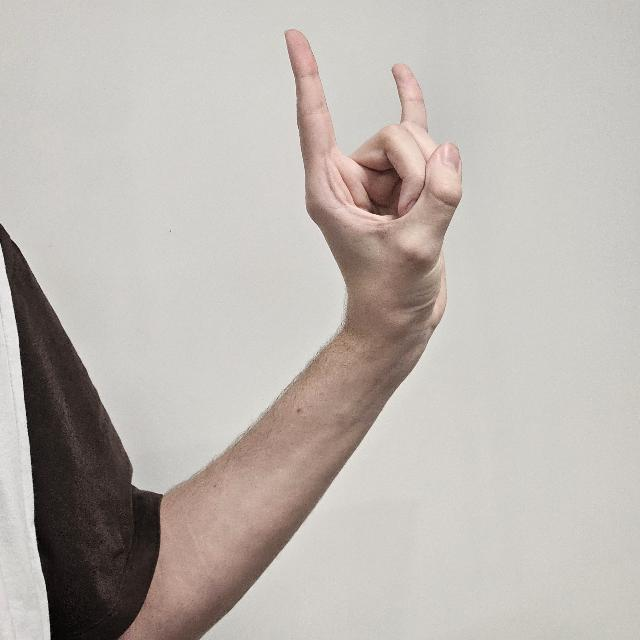L: (285, 24, 465, 356)
